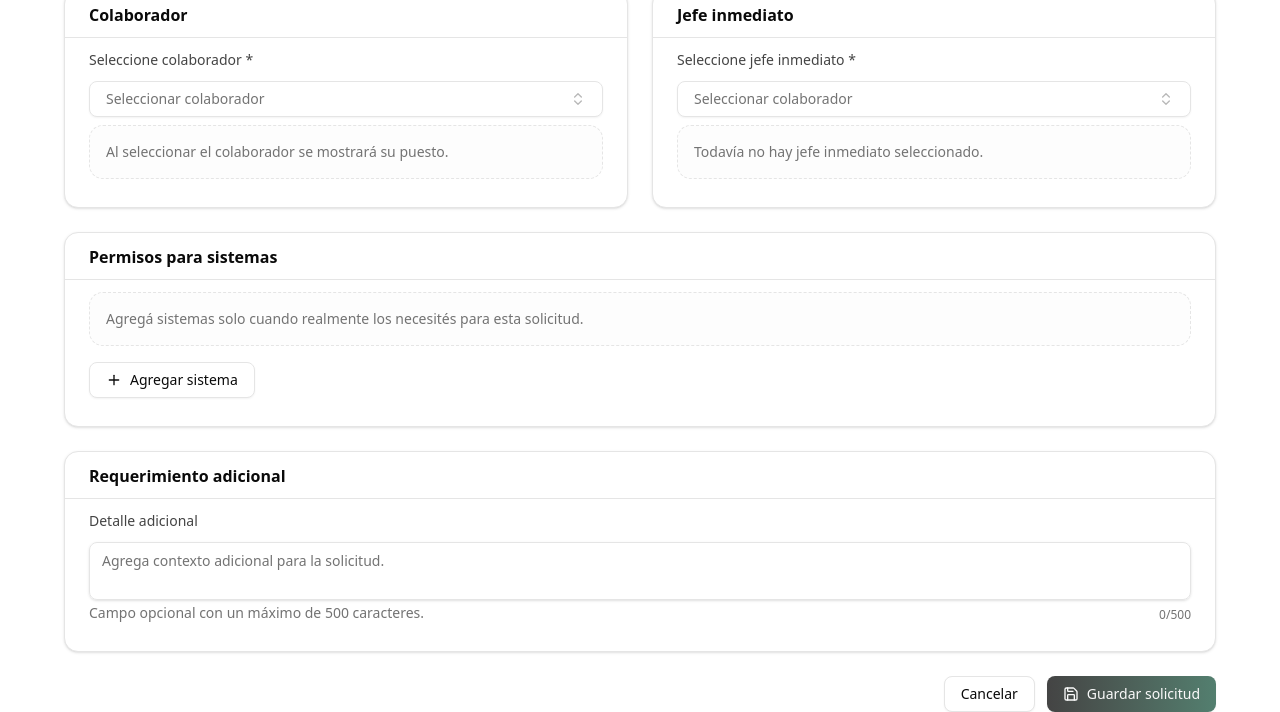
Test case: MiAccesoNewRequestPage › oculta en la siguiente fila los sistemas que ya fueron seleccionados
(page scrolled)
Click the button "Agregar sistema".
click(172, 380)  # box [89,362,255,398]
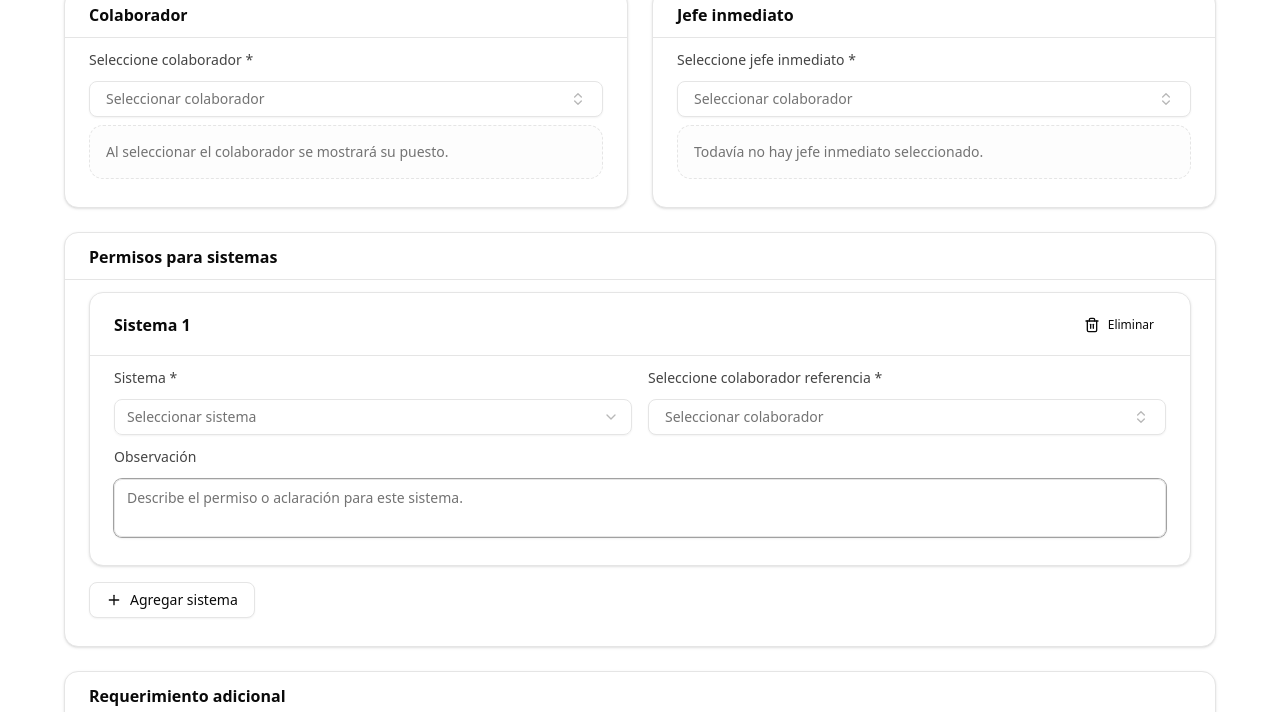
Click the dropdown labelled "Seleccionar sistema".
click(192, 417)  # box [114,399,632,435]
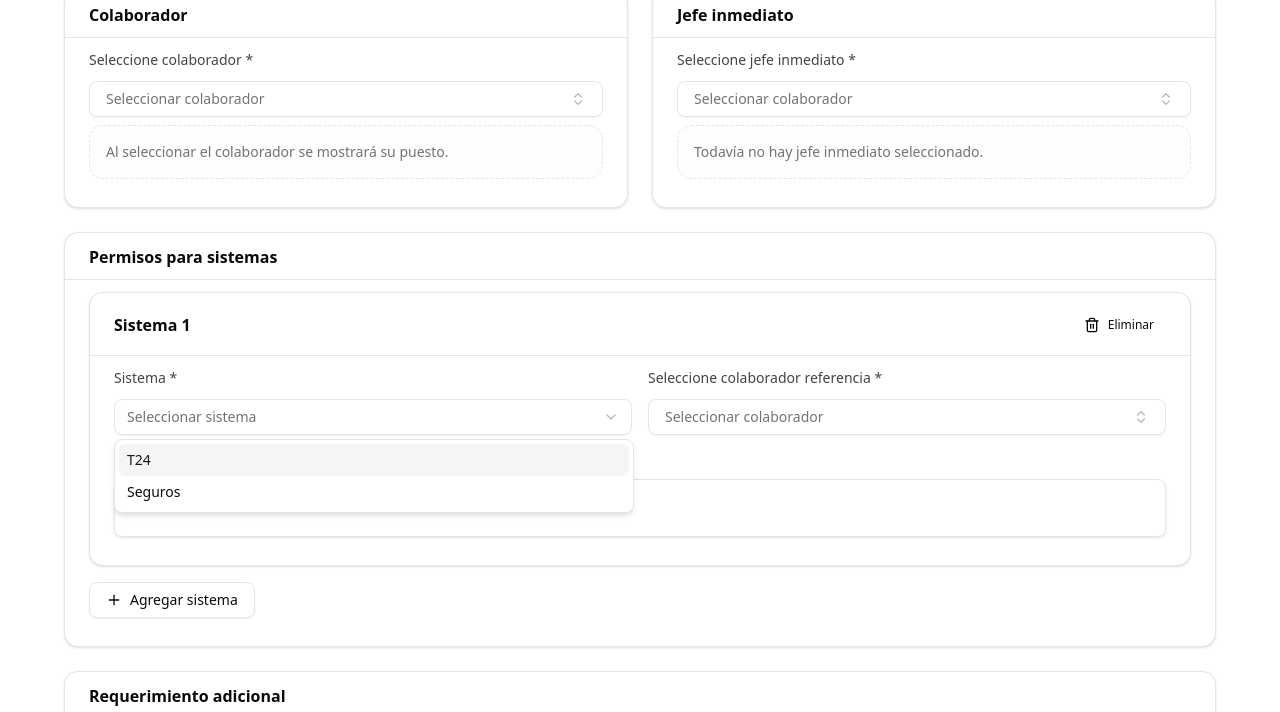
Click the option "T24".
click(139, 460)  # box [119,444,629,476]
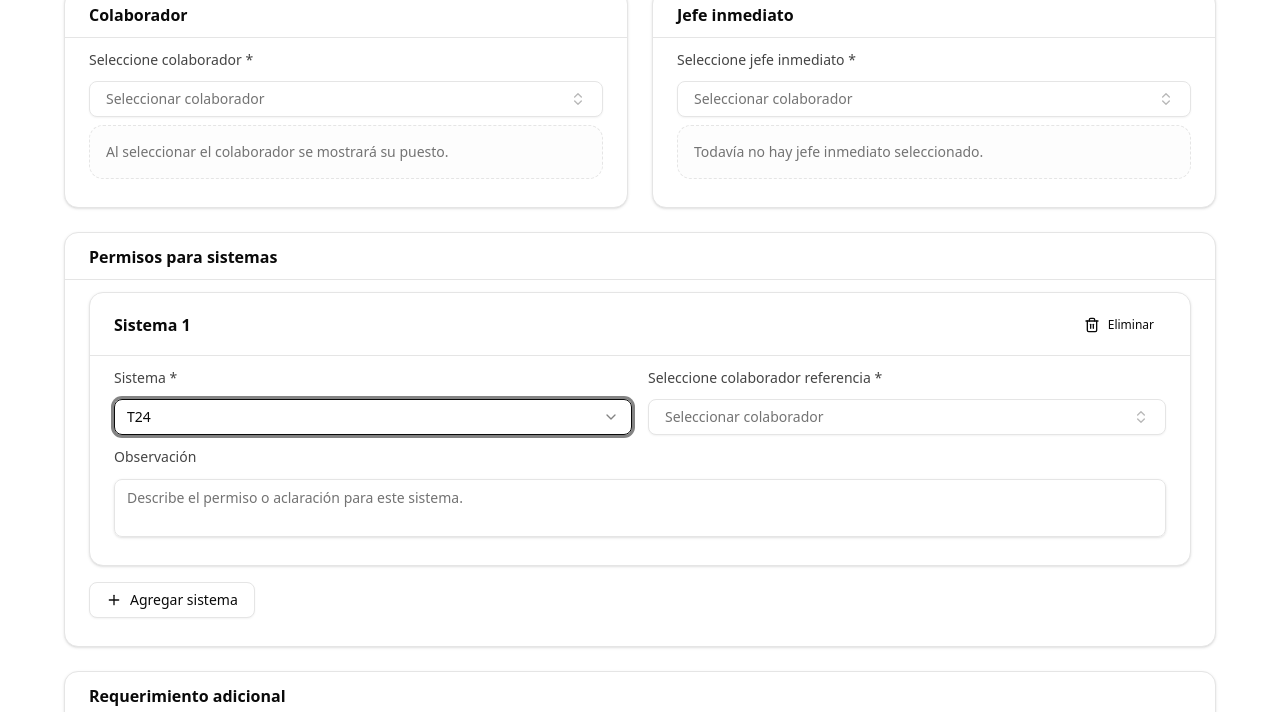
Click the button "Agregar sistema".
click(172, 600)  # box [89,582,255,618]
(page scrolled)
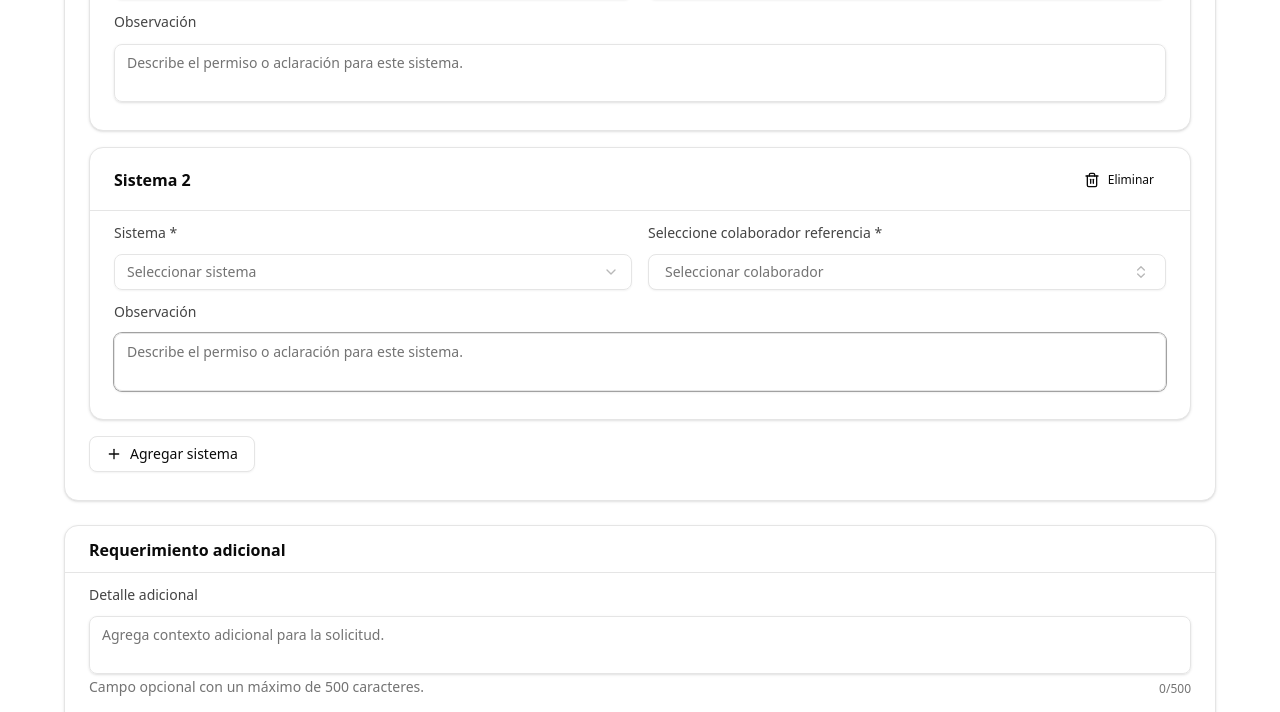
Click the dropdown labelled "Seleccionar sistema".
click(192, 271)  # box [114,254,632,290]
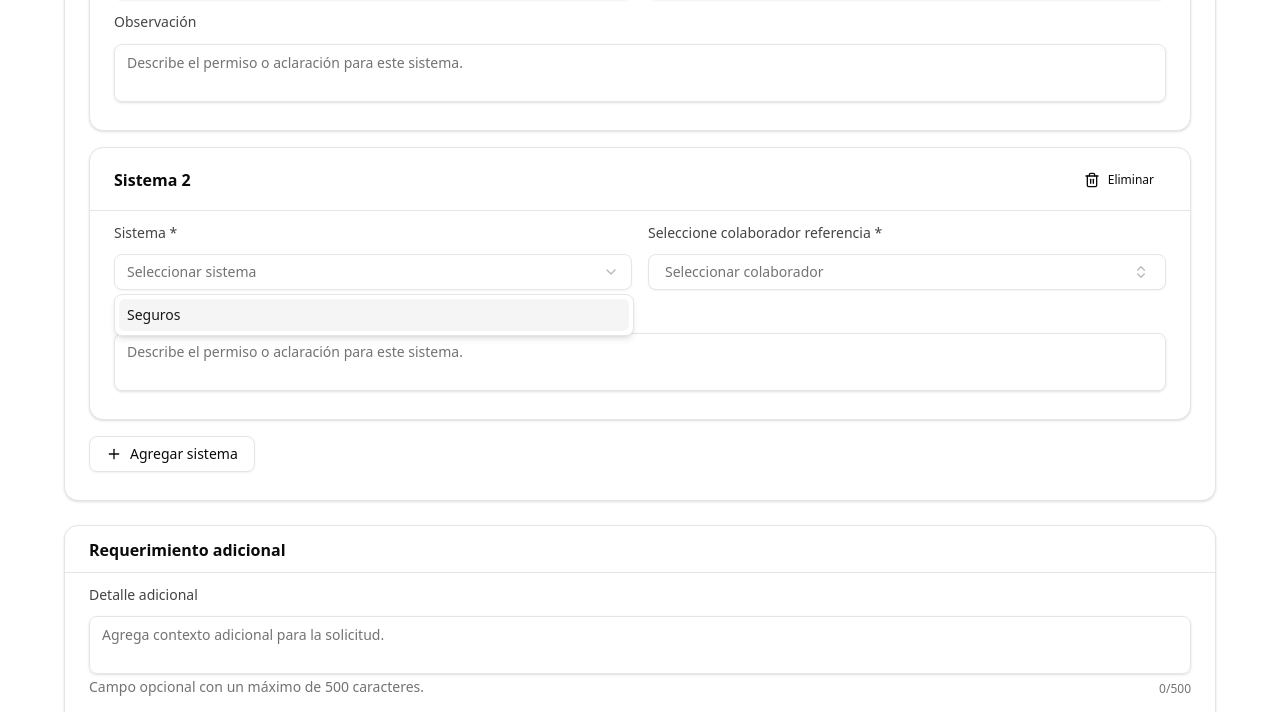
Expected: the option "T24" is not shown
Result: the option "Seguros" is shown at [119,299,629,331]
